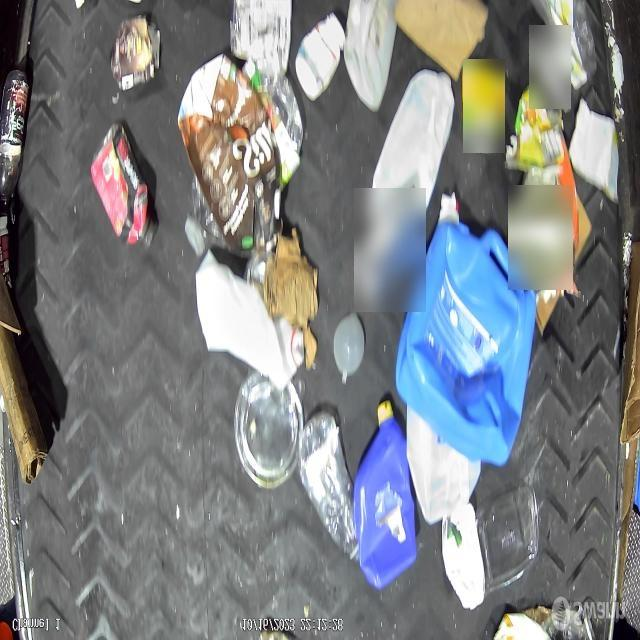milk_jug: (194, 248, 304, 390), (370, 72, 456, 234), (343, 0, 398, 113)
non_white_jug: (398, 216, 532, 470), (354, 406, 416, 590)
plastic_bottle: (299, 411, 359, 563), (0, 70, 30, 208)
